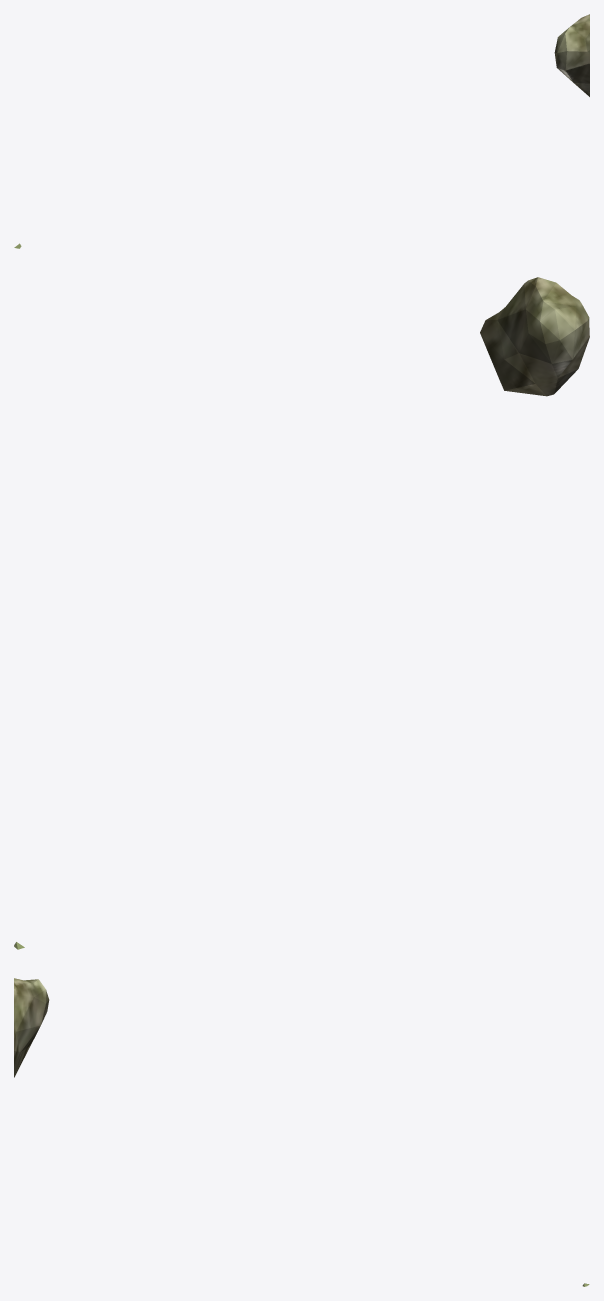
The picture shows the model from 3 angles, top to bottom: view 1: azimuth 90°, elevation 25°; view 2: azimuth 150°, elevation 25°; view 3: azimuth 270°, elevation 25°; orthographic projection. The views are drawn at different scales.
Bounding box in the file's own units: 1.19 × 2.75 × 5.38.
1 material, 1 textured.
